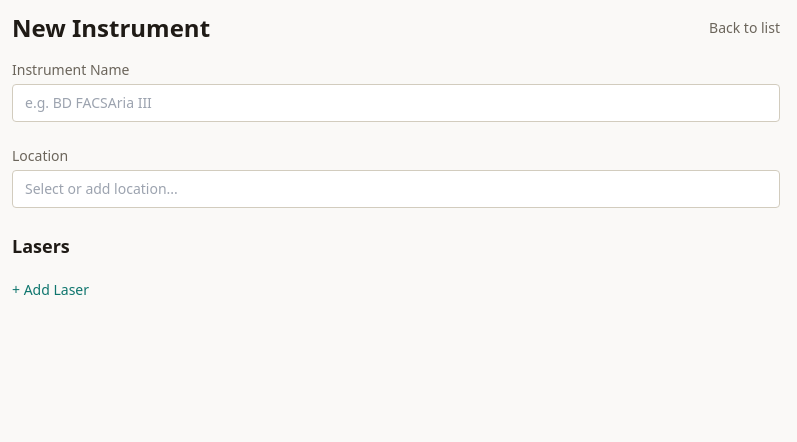
Test case: InstrumentEditor › adding a laser adds a new section
Click the button "+ Add Laser".
click(50, 290)  # box [12, 280, 89, 300]
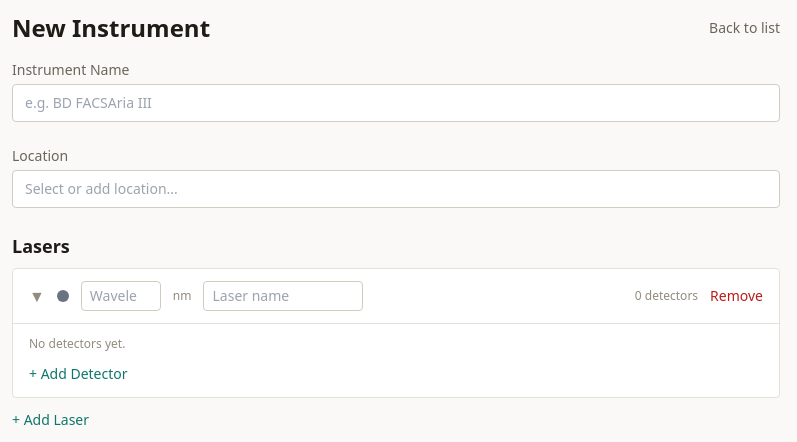
Check: the button "+ Add Detector" is shown, box [29, 364, 128, 384]
